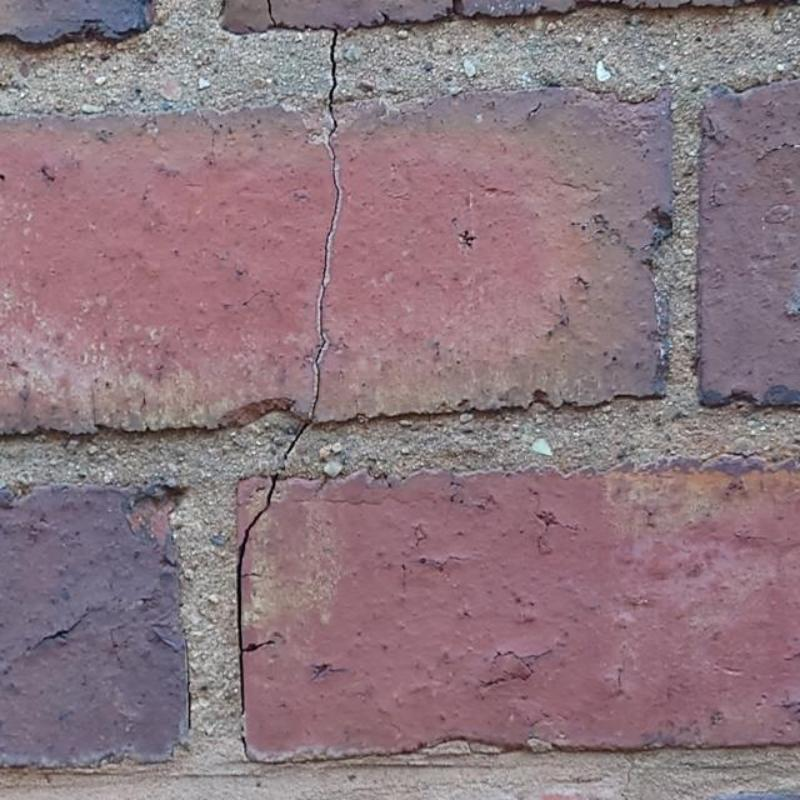crack: (238, 30, 344, 707), (266, 0, 276, 27)
